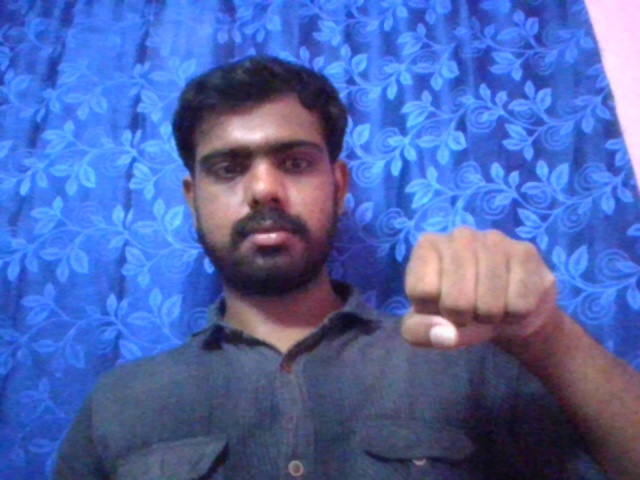Yes: (400, 222, 560, 352)
